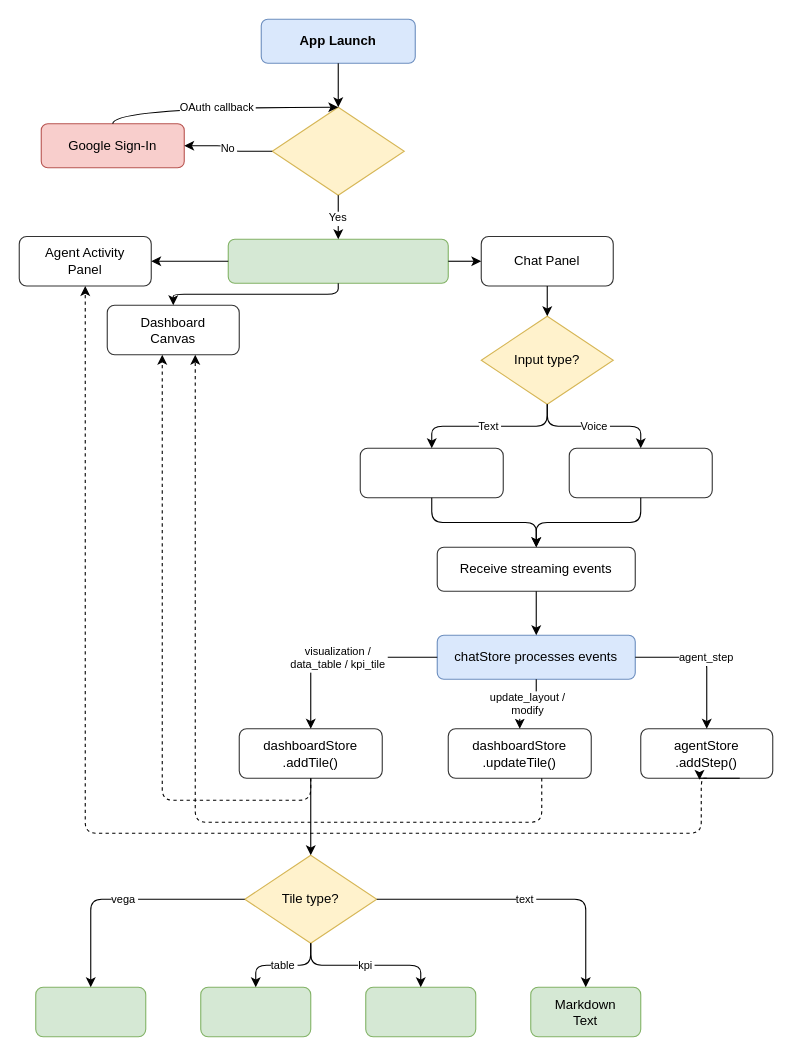
This 792x1056 diagram has some shape labels left out. The centre of each missing label's shape, as x and y in pixels:
"AppShell (3 Resizable Panels)" belongs at (337,260).
"Authenticated?" belongs at (337,150).
"Interactive Data Table" belongs at (255,1011).
"KPI Metric Card" belongs at (420,1011).
"POST /api/chat (SSE Stream)" belongs at (431,472).
"Vega-Lite Chart" belongs at (90,1011).
"WebSocket /api/agent/live" belongs at (640,472).
